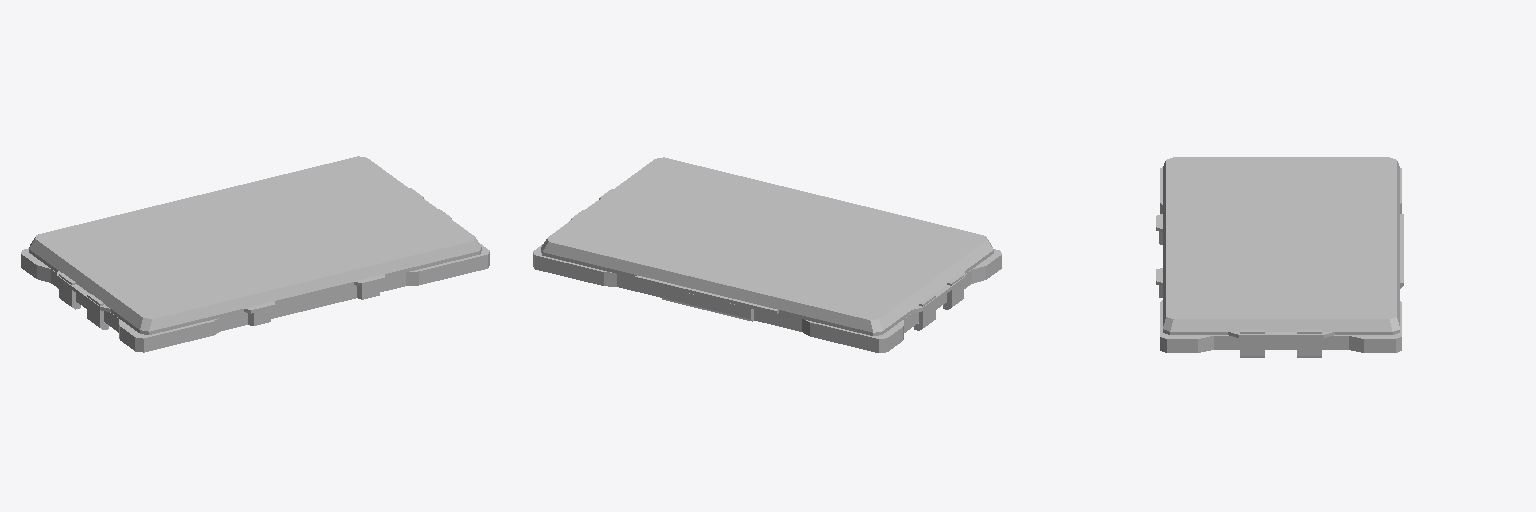
The model's file is trashbinlid.obj.
3 renders of one model, left to right at view 1: azimuth 30°, elevation 25°; view 2: azimuth 150°, elevation 25°; view 3: azimuth 270°, elevation 25°, orthographic.
Visible parts, largest first — view 1: TrashBinLid; view 2: TrashBinLid; view 3: TrashBinLid.
Part boxes in pixels (bbox=[...]): TrashBinLid: bbox=[21, 156, 489, 352]; TrashBinLid: bbox=[533, 157, 1001, 352]; TrashBinLid: bbox=[1156, 157, 1403, 357].
Size of the model in its own units: 62.36 by 5.94 by 37.86.